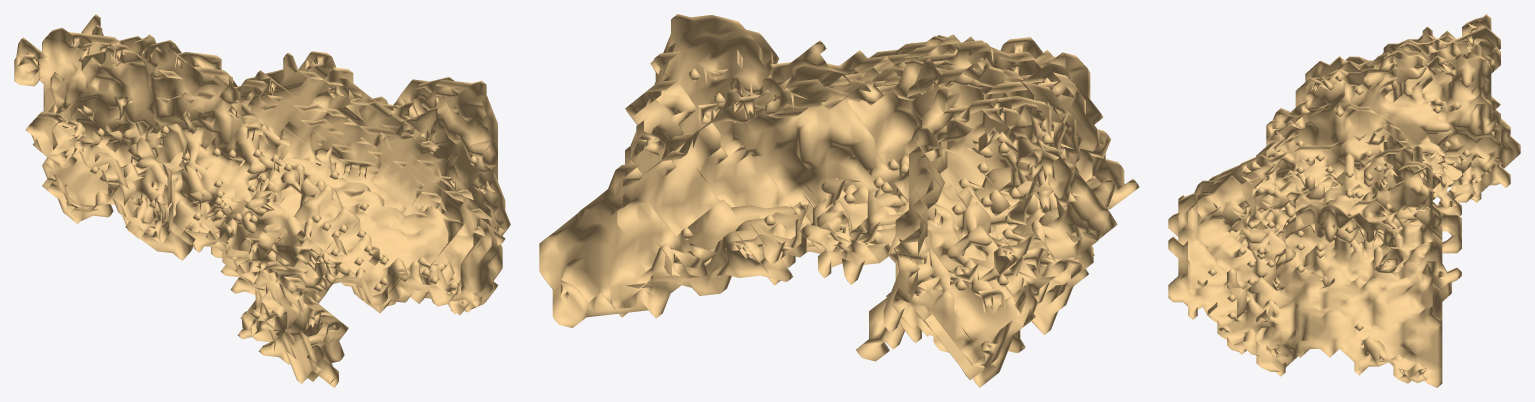
The model's file is osteocyte_154.glb.
3 views of the same model, side by side, from view 1: azimuth 30°, elevation 25°; view 2: azimuth 150°, elevation 25°; view 3: azimuth 270°, elevation 25° (orthographic). The views are drawn at different scales.
Parts seen in each view (by area): view 1: osteocyte_154; view 2: osteocyte_154; view 3: osteocyte_154.
Boxes of the visible parts, x1,y1,x2,y2 form: osteocyte_154: [14, 14, 510, 387]; osteocyte_154: [539, 14, 1139, 387]; osteocyte_154: [1168, 14, 1520, 387].
Size of the model in its own units: 20.7 by 13 by 17.33.
